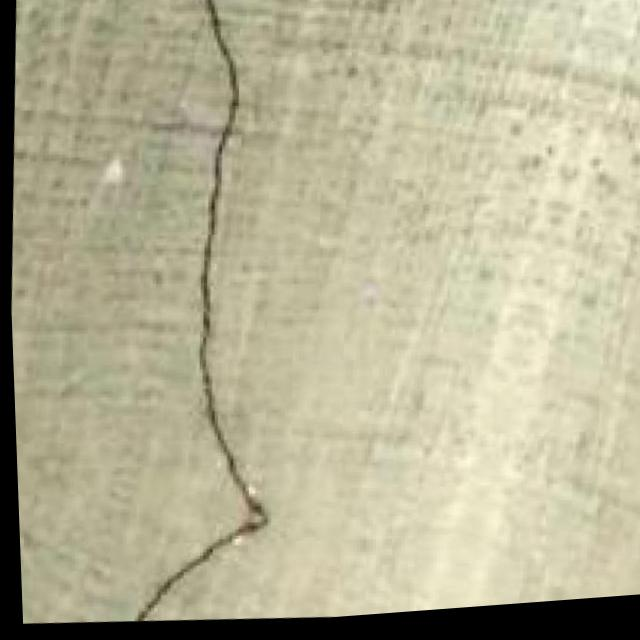Crack: (89, 0, 327, 633)
